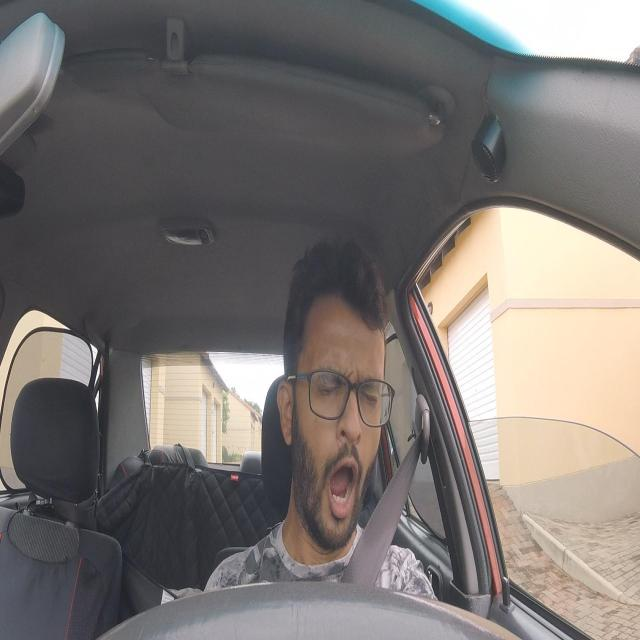close: (309, 362, 347, 405), (358, 369, 384, 416)
